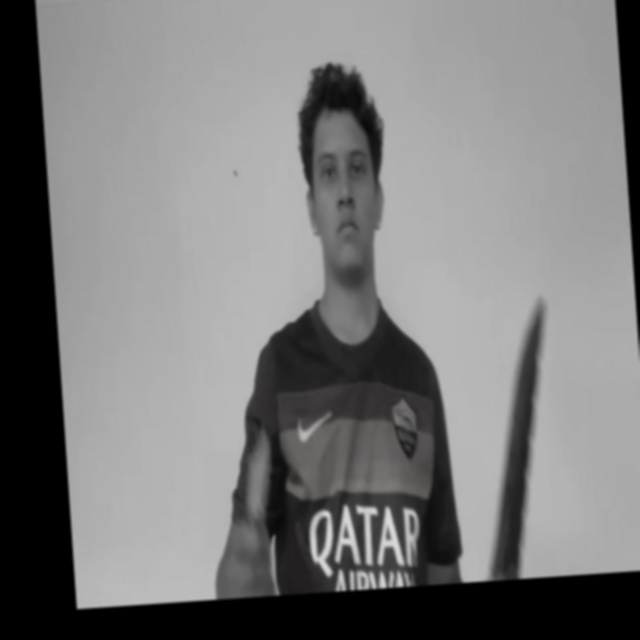Sharp-Object: (474, 302, 563, 580), (244, 436, 276, 521)
